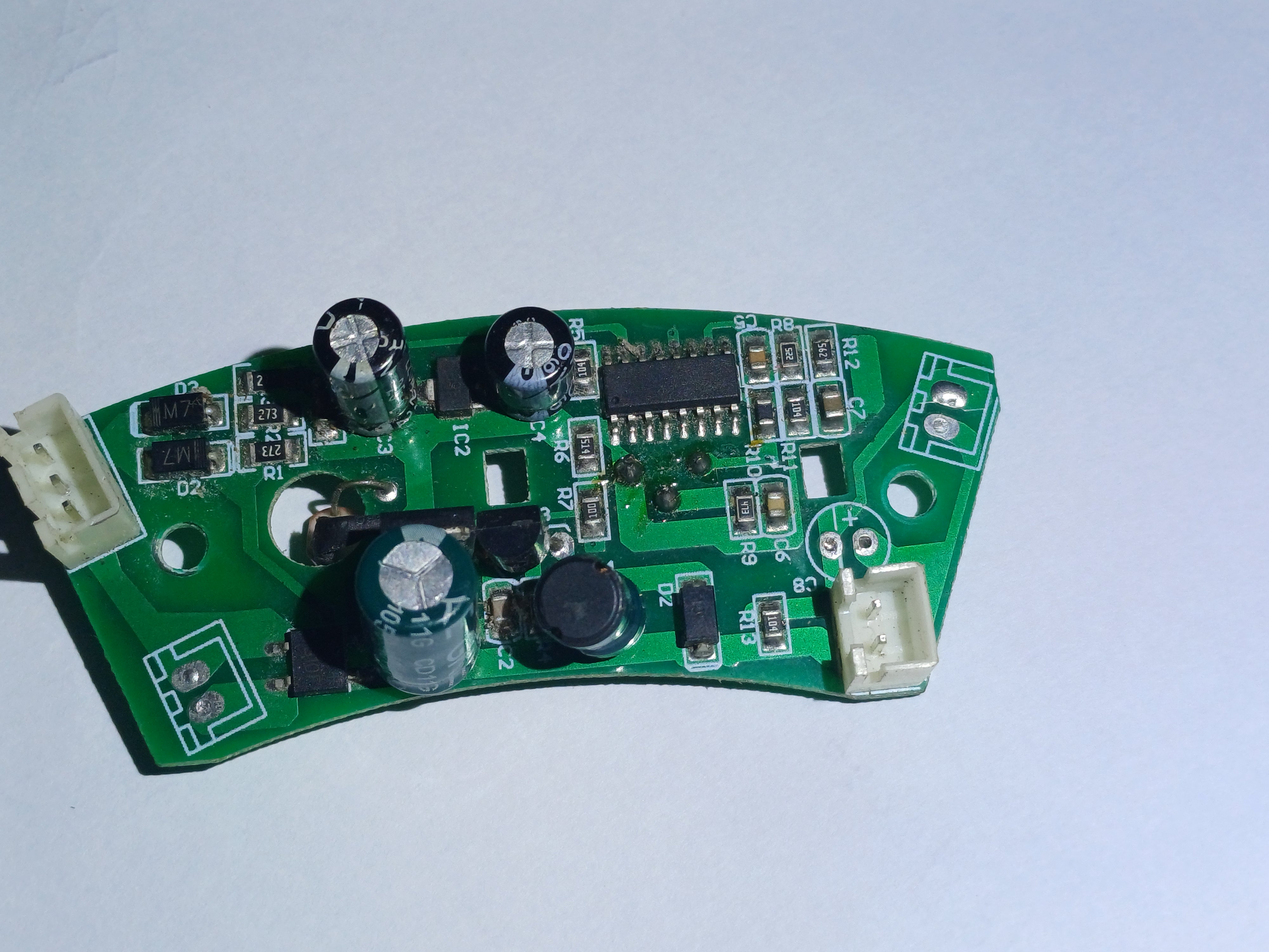Capacitor: (308, 291, 413, 435), (483, 297, 577, 414), (762, 485, 790, 527)
Connector: (0, 392, 144, 569), (828, 561, 940, 697)
Diode: (137, 403, 222, 489), (672, 574, 724, 666), (137, 386, 213, 438)
Resistor: (573, 435, 605, 464)
